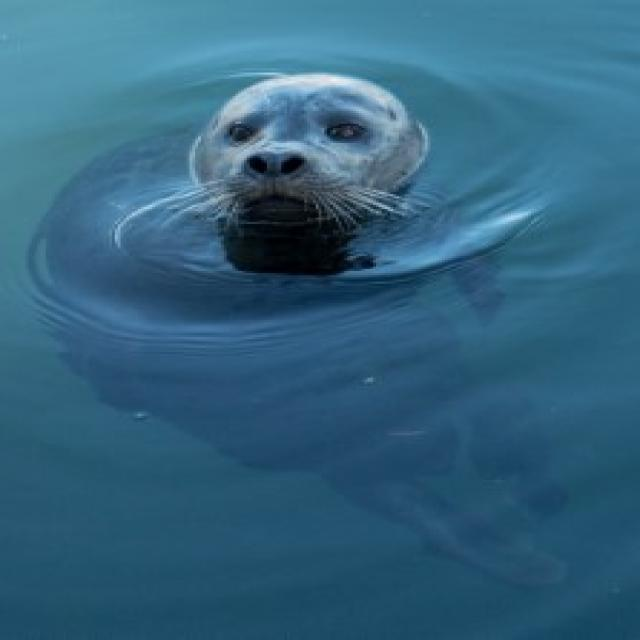Seal: (130, 59, 465, 382)
